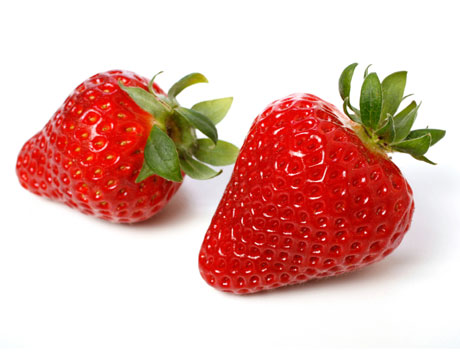strawberry: (200, 94, 415, 297), (16, 68, 190, 220)
